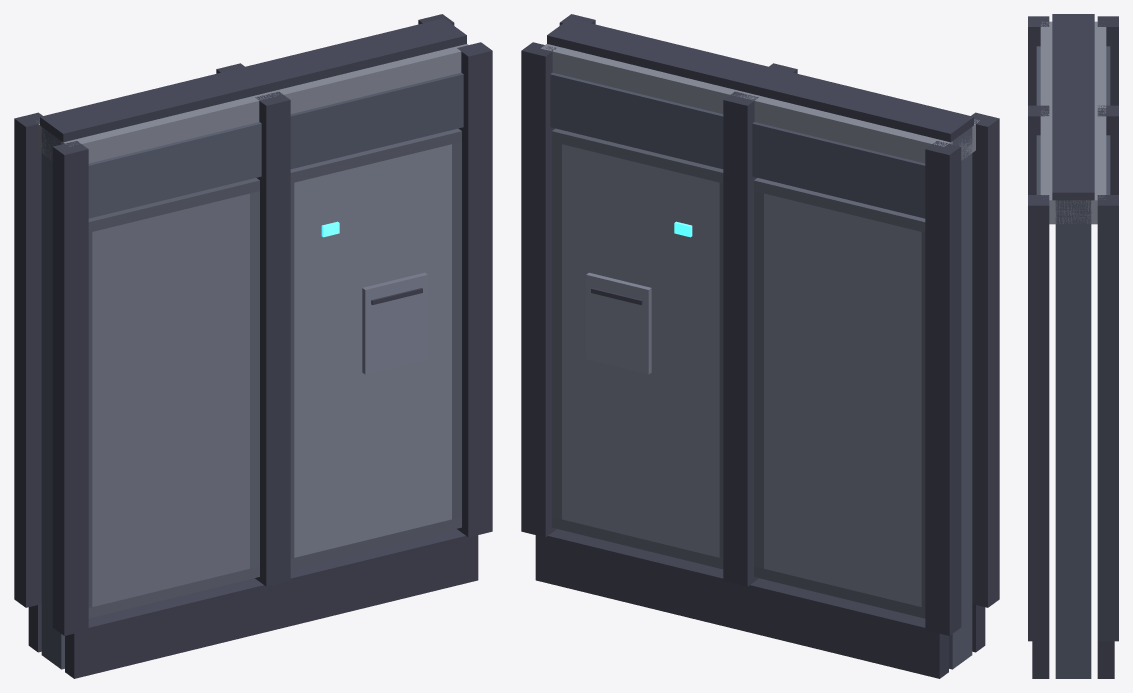
File: Wall_Panel_4m.fbx
3 renders of one model, left to right at view 1: azimuth 30°, elevation 25°; view 2: azimuth 150°, elevation 25°; view 3: azimuth 270°, elevation 25°, orthographic. The views are drawn at different scales.
Parts seen in each view (by area): view 1: Wall_Panel_4m; view 2: Wall_Panel_4m; view 3: Wall_Panel_4m.
Boxes of the visible parts, <box> form: Wall_Panel_4m: <box>14,14,492,678</box>; Wall_Panel_4m: <box>521,14,999,678</box>; Wall_Panel_4m: <box>1028,14,1118,678</box>.
Size of the model in its own units: 4.24 by 5.08 by 0.86.
